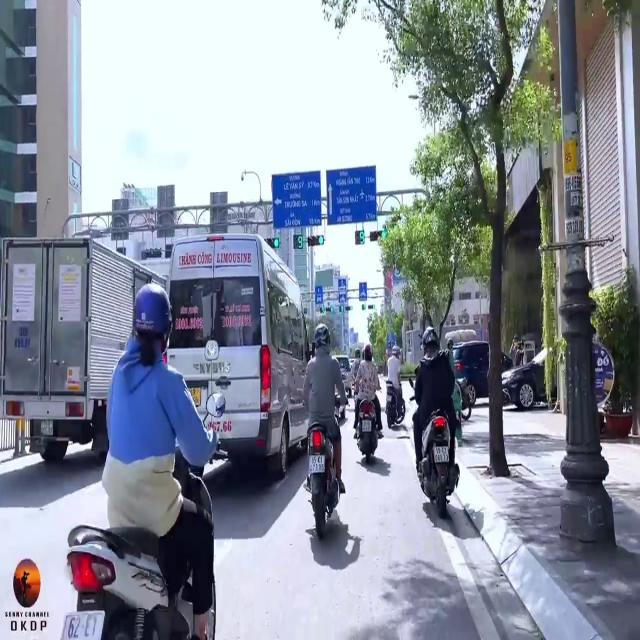bien_trang: (61, 603, 106, 640), (306, 451, 327, 480), (433, 442, 451, 470)
